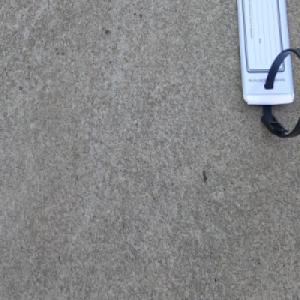LuggageTag: (236, 0, 300, 141)
